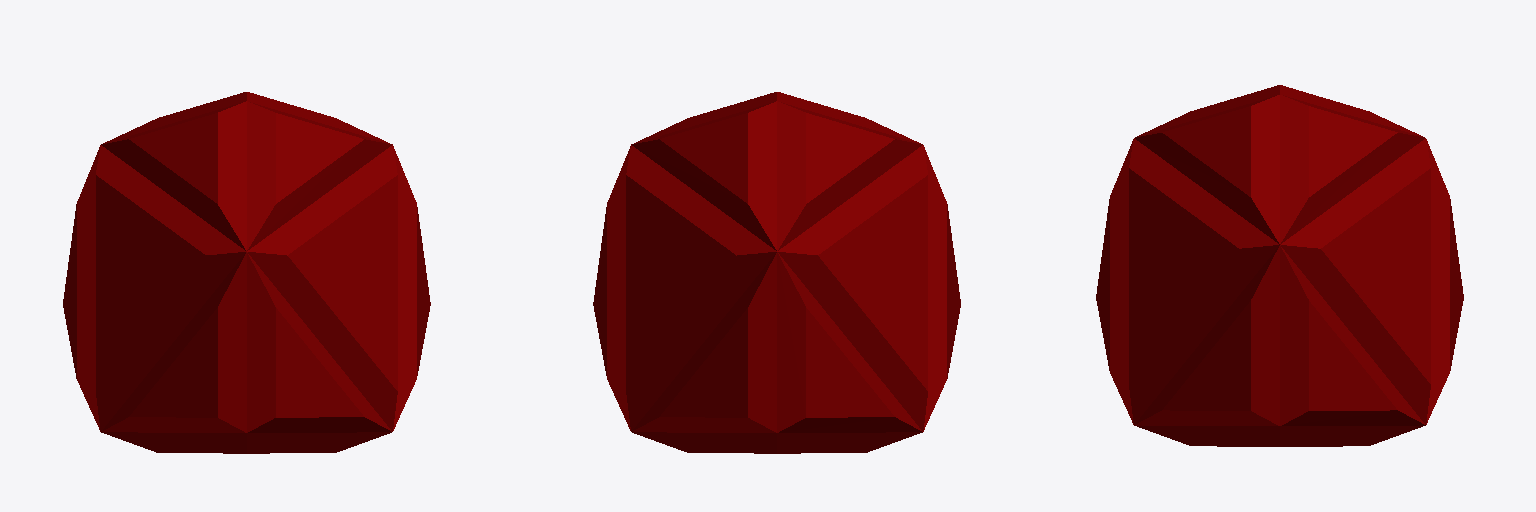
The model's file is ruby.obj.
3 views of the same model, side by side, from view 1: azimuth 30°, elevation 25°; view 2: azimuth 150°, elevation 25°; view 3: azimuth 270°, elevation 25° (orthographic).
Visible parts, largest first — view 1: GeoSphere001; view 2: GeoSphere001; view 3: GeoSphere001.
Boxes of the visible parts, x1=… form: GeoSphere001: x1=63, y1=92, x2=430, y2=453; GeoSphere001: x1=593, y1=92, x2=960, y2=453; GeoSphere001: x1=1096, y1=85, x2=1463, y2=446.
Size of the model in its own units: 0.8957 by 0.8387 by 0.8906.